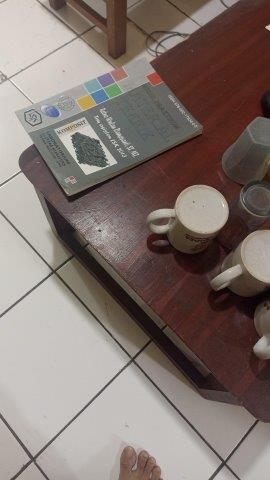kertas: (16, 56, 203, 195)
